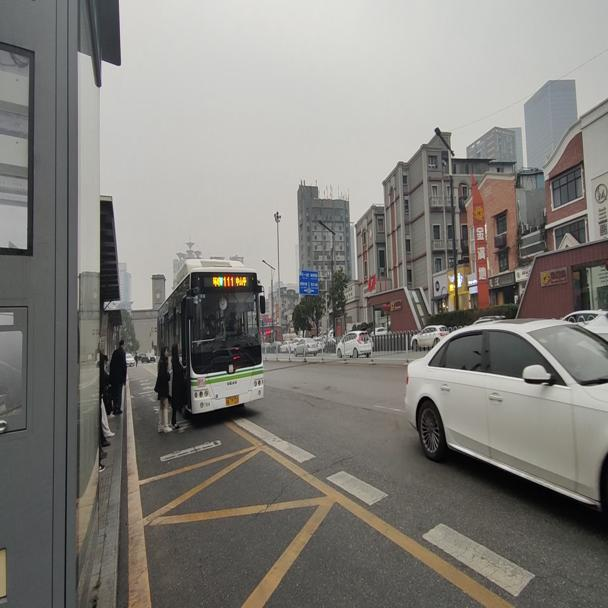bus: (156, 256, 266, 415)
screen: (223, 272, 234, 288)
